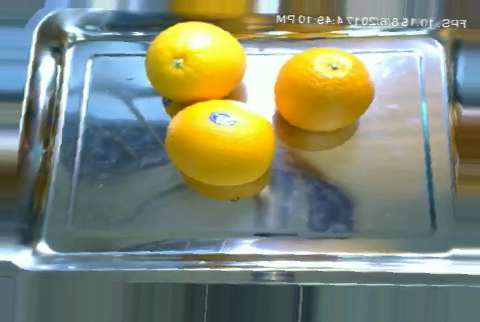Orange: (163, 98, 277, 186), (274, 45, 375, 133), (144, 20, 247, 101)
